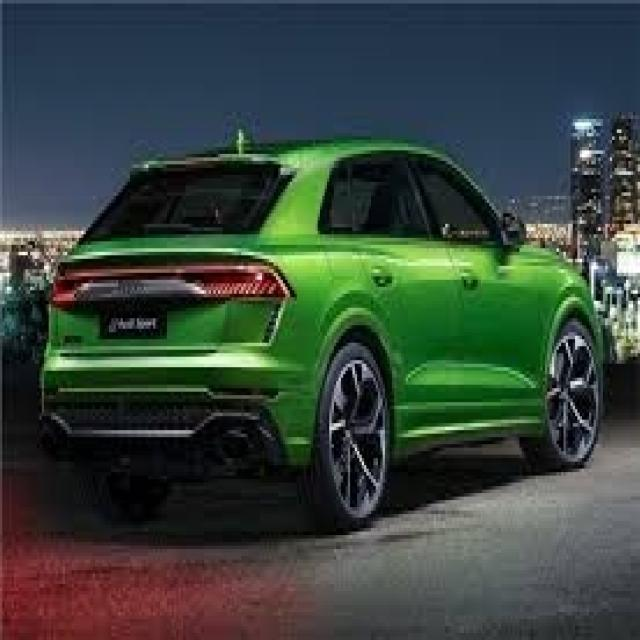green: (45, 149, 596, 515)
